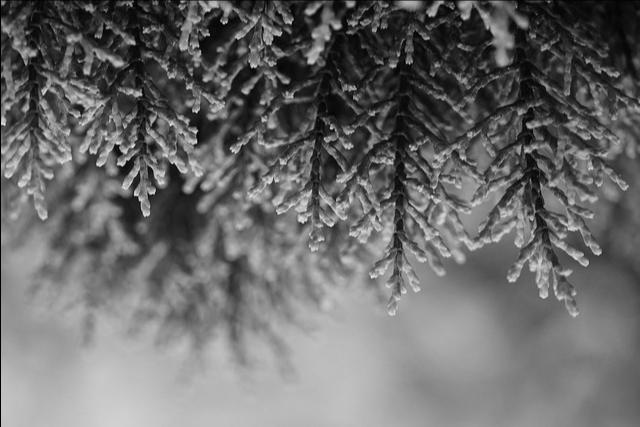Non_Gorille: (11, 18, 611, 404)
